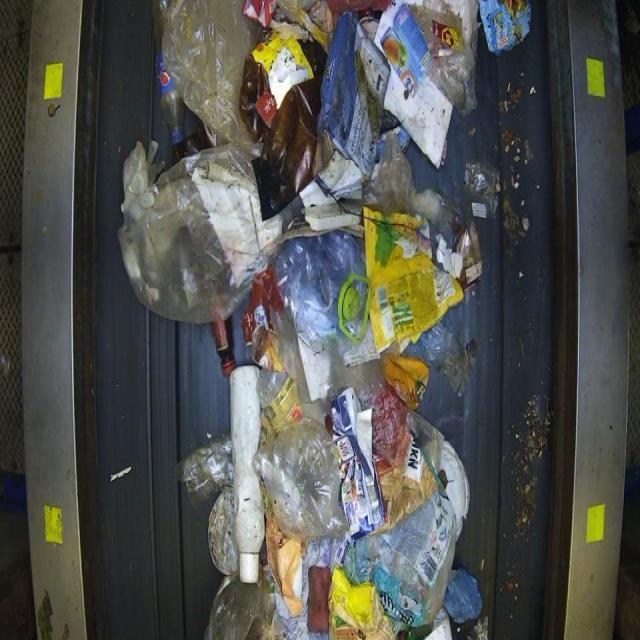other-trash: (117, 0, 521, 638)
